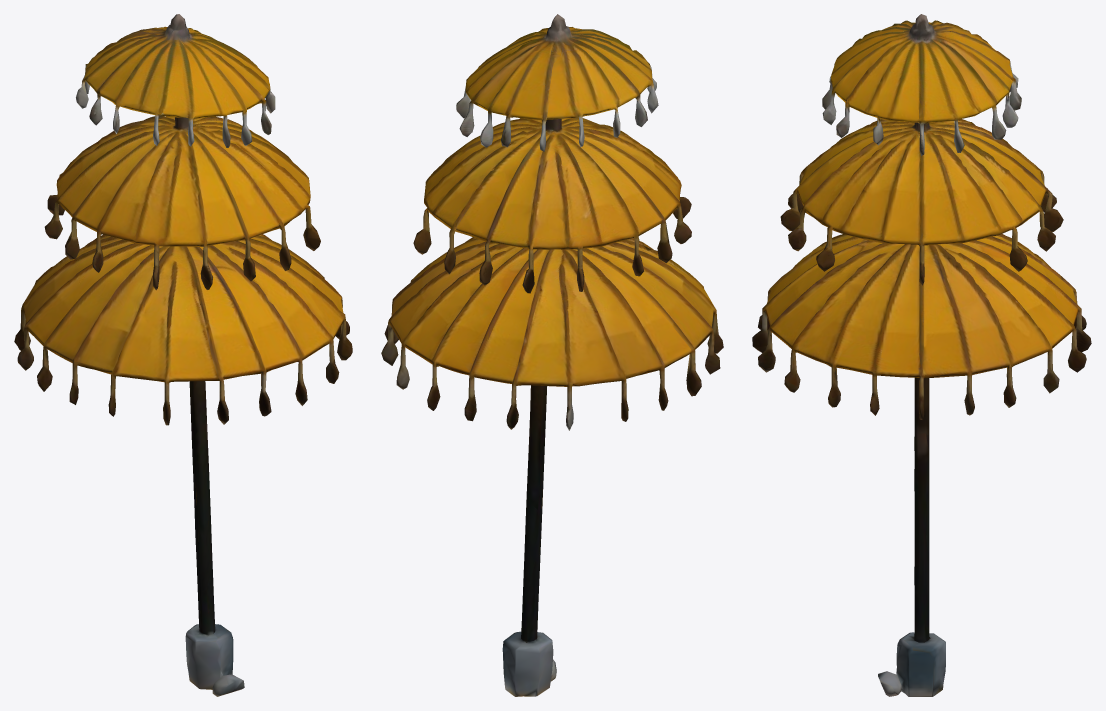
File: payung_kuning.glb
3 renders of one model, left to right at view 1: azimuth 30°, elevation 25°; view 2: azimuth 150°, elevation 25°; view 3: azimuth 270°, elevation 25°, orthographic. The views are drawn at different scales.
Visible parts, largest first — view 1: tripo_node_b936ac20-6ed1-4dcc-8e43-0f115f841609; view 2: tripo_node_b936ac20-6ed1-4dcc-8e43-0f115f841609; view 3: tripo_node_b936ac20-6ed1-4dcc-8e43-0f115f841609.
Boxes of the visible parts, x1=… form: tripo_node_b936ac20-6ed1-4dcc-8e43-0f115f841609: x1=14, y1=14, x2=352, y2=696; tripo_node_b936ac20-6ed1-4dcc-8e43-0f115f841609: x1=381, y1=14, x2=723, y2=696; tripo_node_b936ac20-6ed1-4dcc-8e43-0f115f841609: x1=752, y1=14, x2=1091, y2=696.
Bounding box in the file's own units: 0.4552 × 1 × 0.4652.
1 material, 1 textured.
